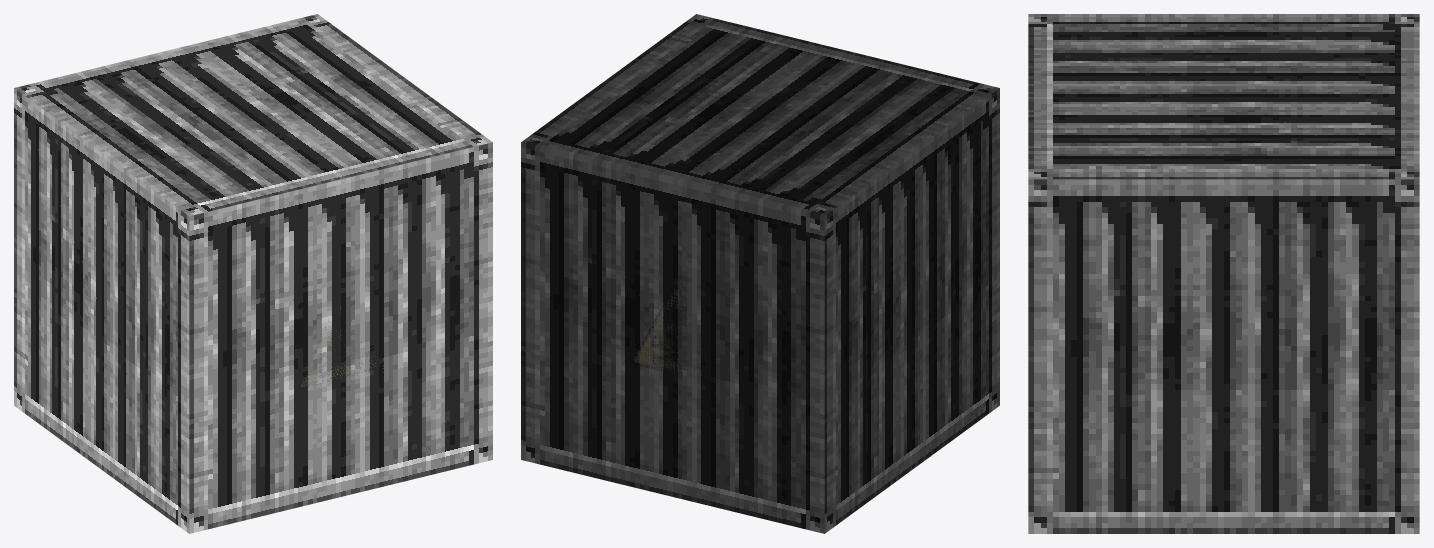
The model's file is Pmetal_crate3Z.obj.
The picture shows the model from 3 angles, left to right: view 1: azimuth 30°, elevation 25°; view 2: azimuth 150°, elevation 25°; view 3: azimuth 270°, elevation 25°; orthographic projection. The views are drawn at different scales.
Bounding box in the file's own units: 1166 × 1166 × 1166.
2 materials, 2 textured.
